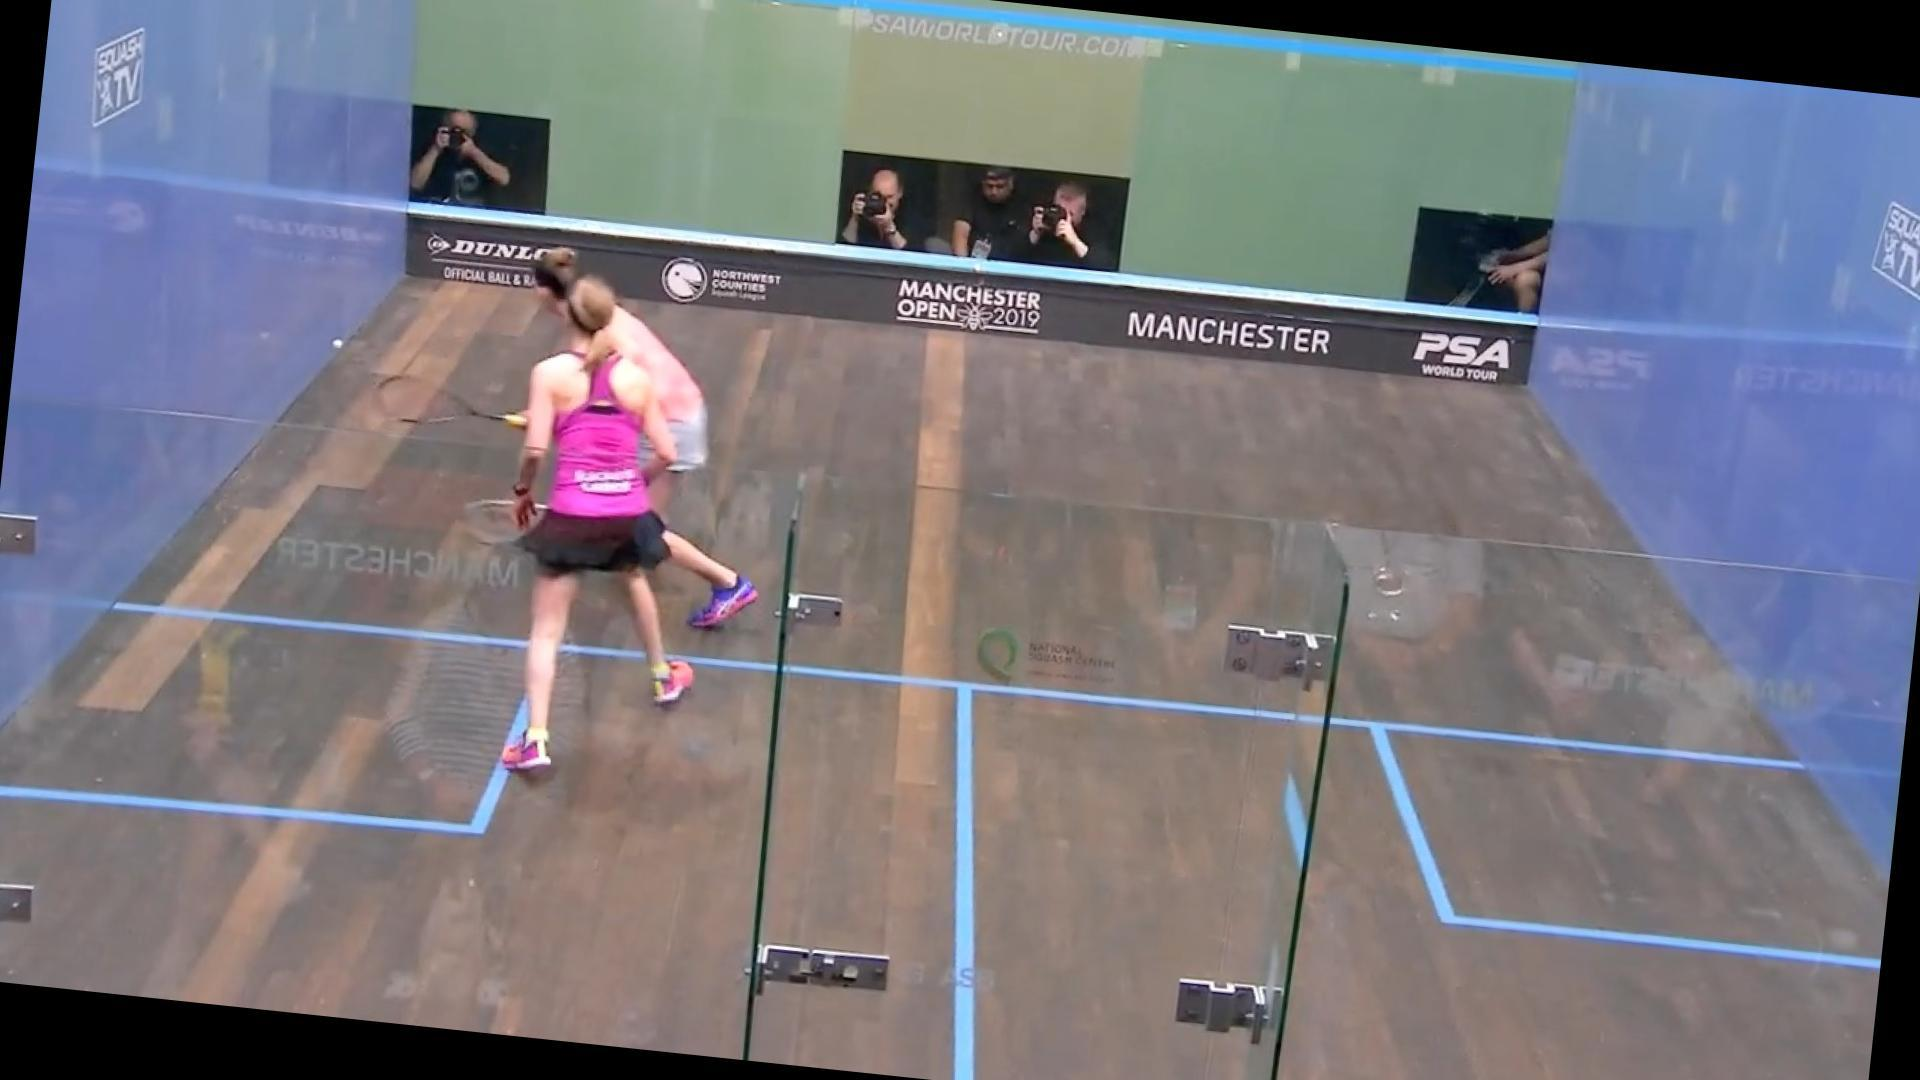Squash-Ball: (313, 324, 361, 371)
